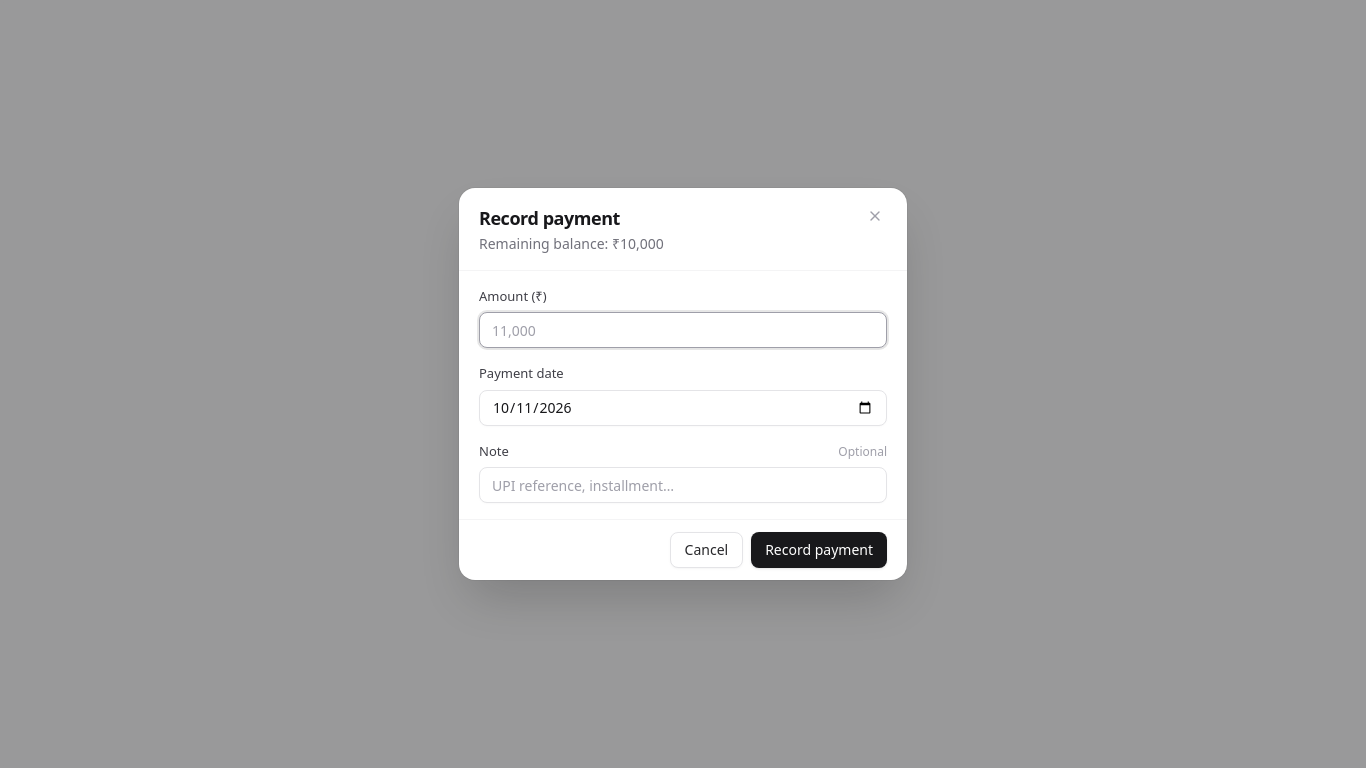
PaymentFormModal › shows the backend overpayment message and stays open
Type "15000" into the field labelled "Amount (₹)" at [683, 330], box [479,312,887,348]
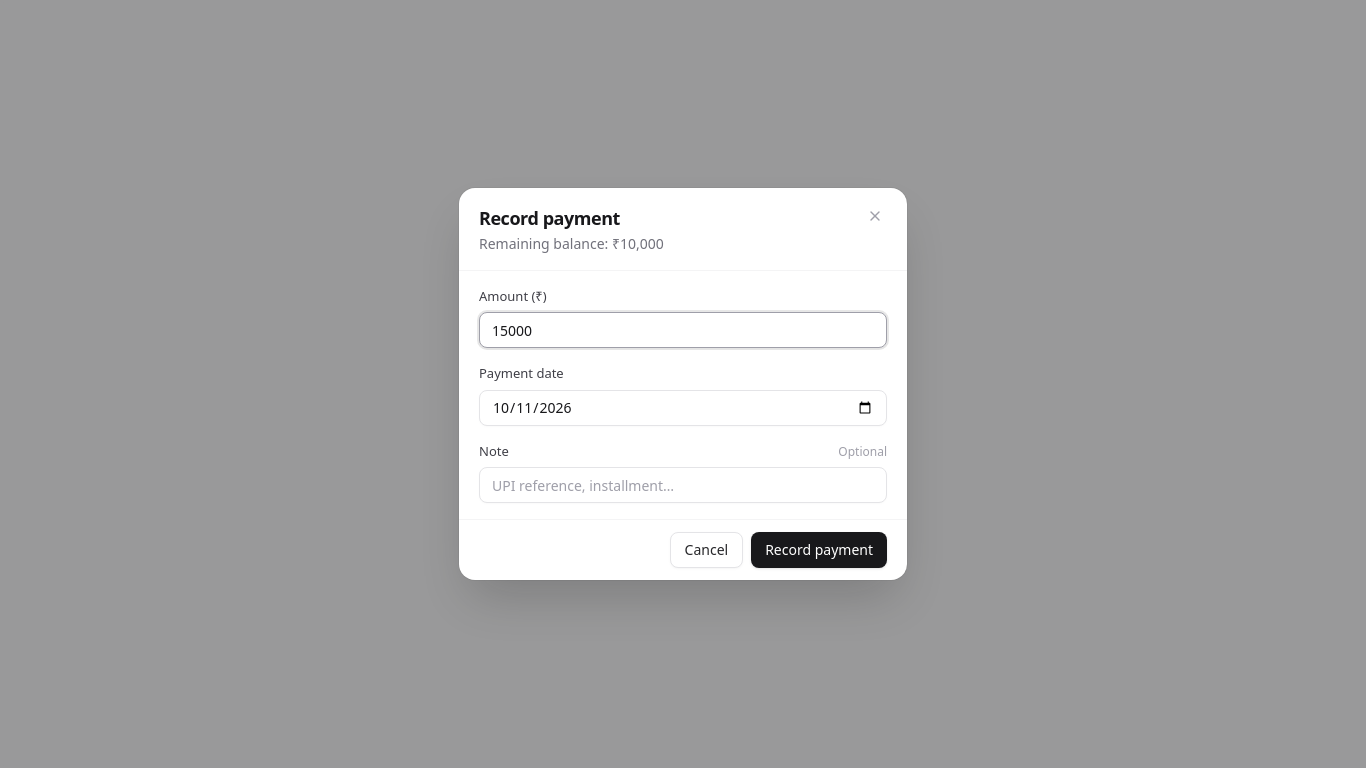
Click the button "Record payment" at [819, 550], box [751,532,887,568]
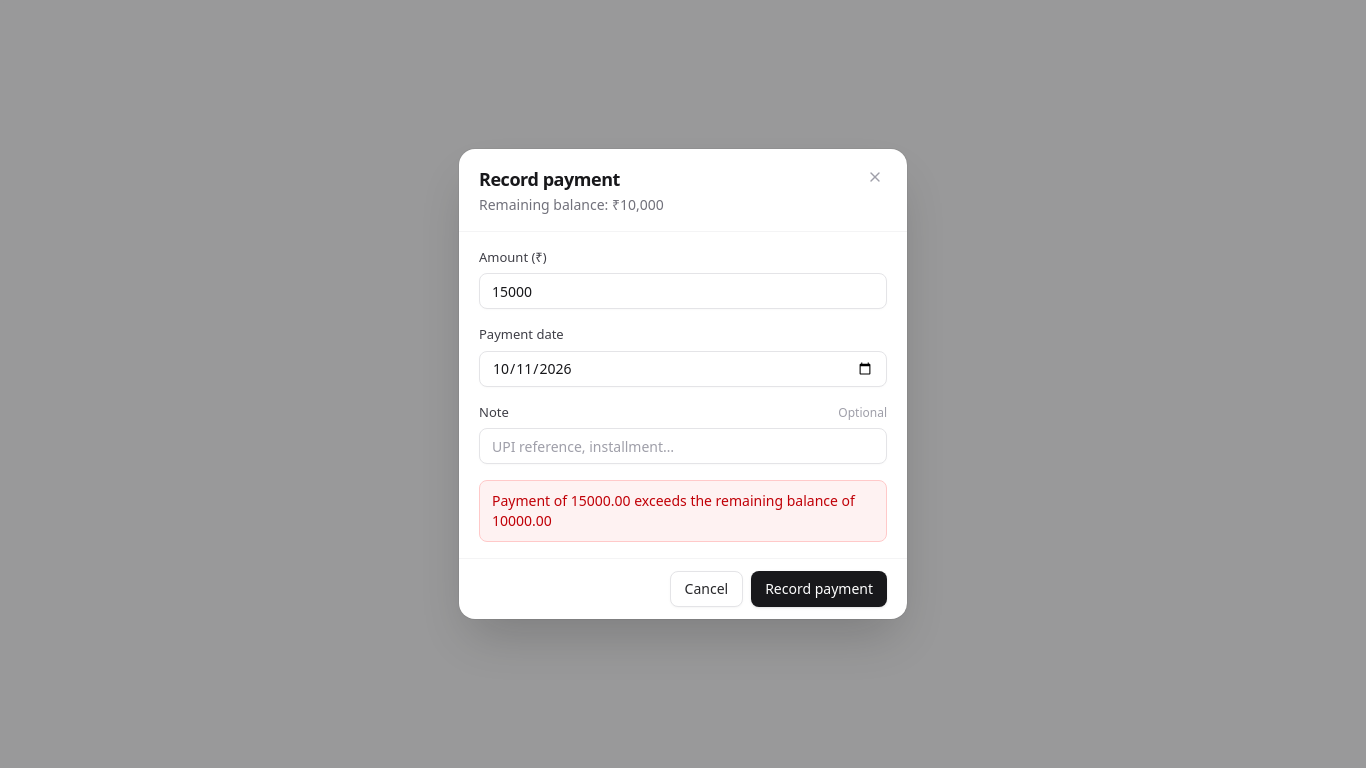
Expected: the message shows "exceeds the remaining balance of 10000.00", [492,491,855,530]
